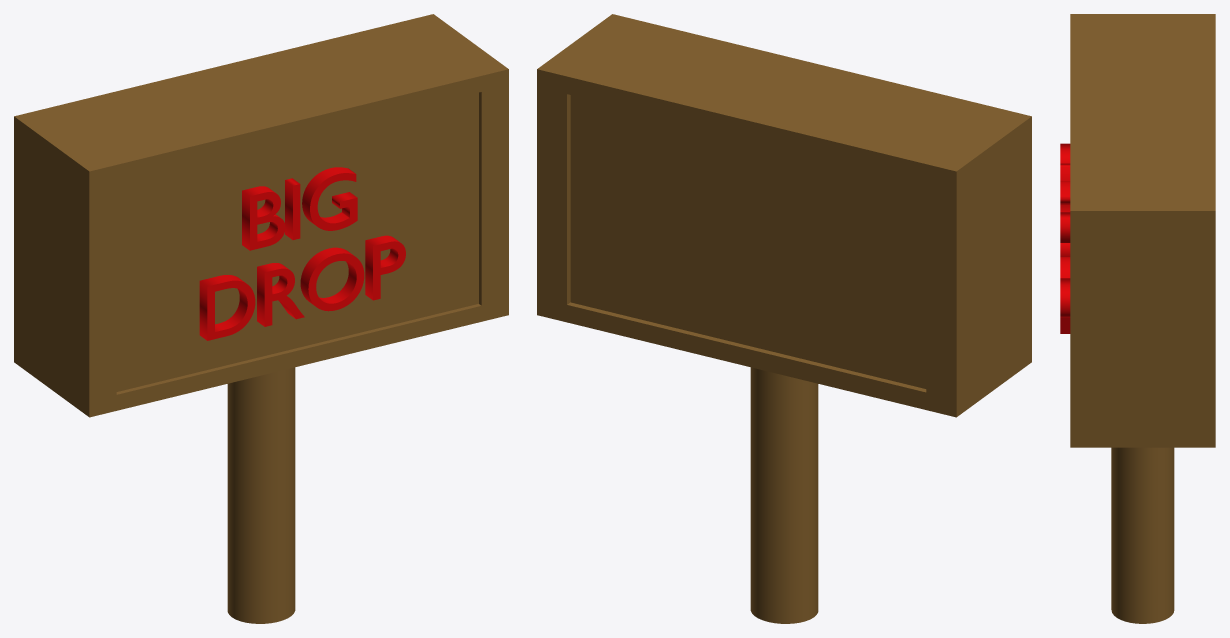
File: BigDropSign.fbx
The picture shows the model from 3 angles, left to right: view 1: azimuth 30°, elevation 25°; view 2: azimuth 150°, elevation 25°; view 3: azimuth 270°, elevation 25°; orthographic projection. The views are drawn at different scales.
Visible parts, largest first — view 1: Cube, Cylinder, Text; view 2: Cube, Cylinder; view 3: Cube, Cylinder, Text.
Part boxes in pixels (box(x1,y1,x2,y2)): Cube: box(14, 14, 508, 417); Cylinder: box(227, 367, 295, 623); Text: box(199, 167, 405, 340); Cube: box(537, 14, 1031, 417); Cylinder: box(750, 367, 818, 623); Cube: box(1070, 14, 1215, 447); Cylinder: box(1111, 447, 1174, 623); Text: box(1060, 143, 1070, 333).
Size of the model in its own units: 320 by 378 by 107.
